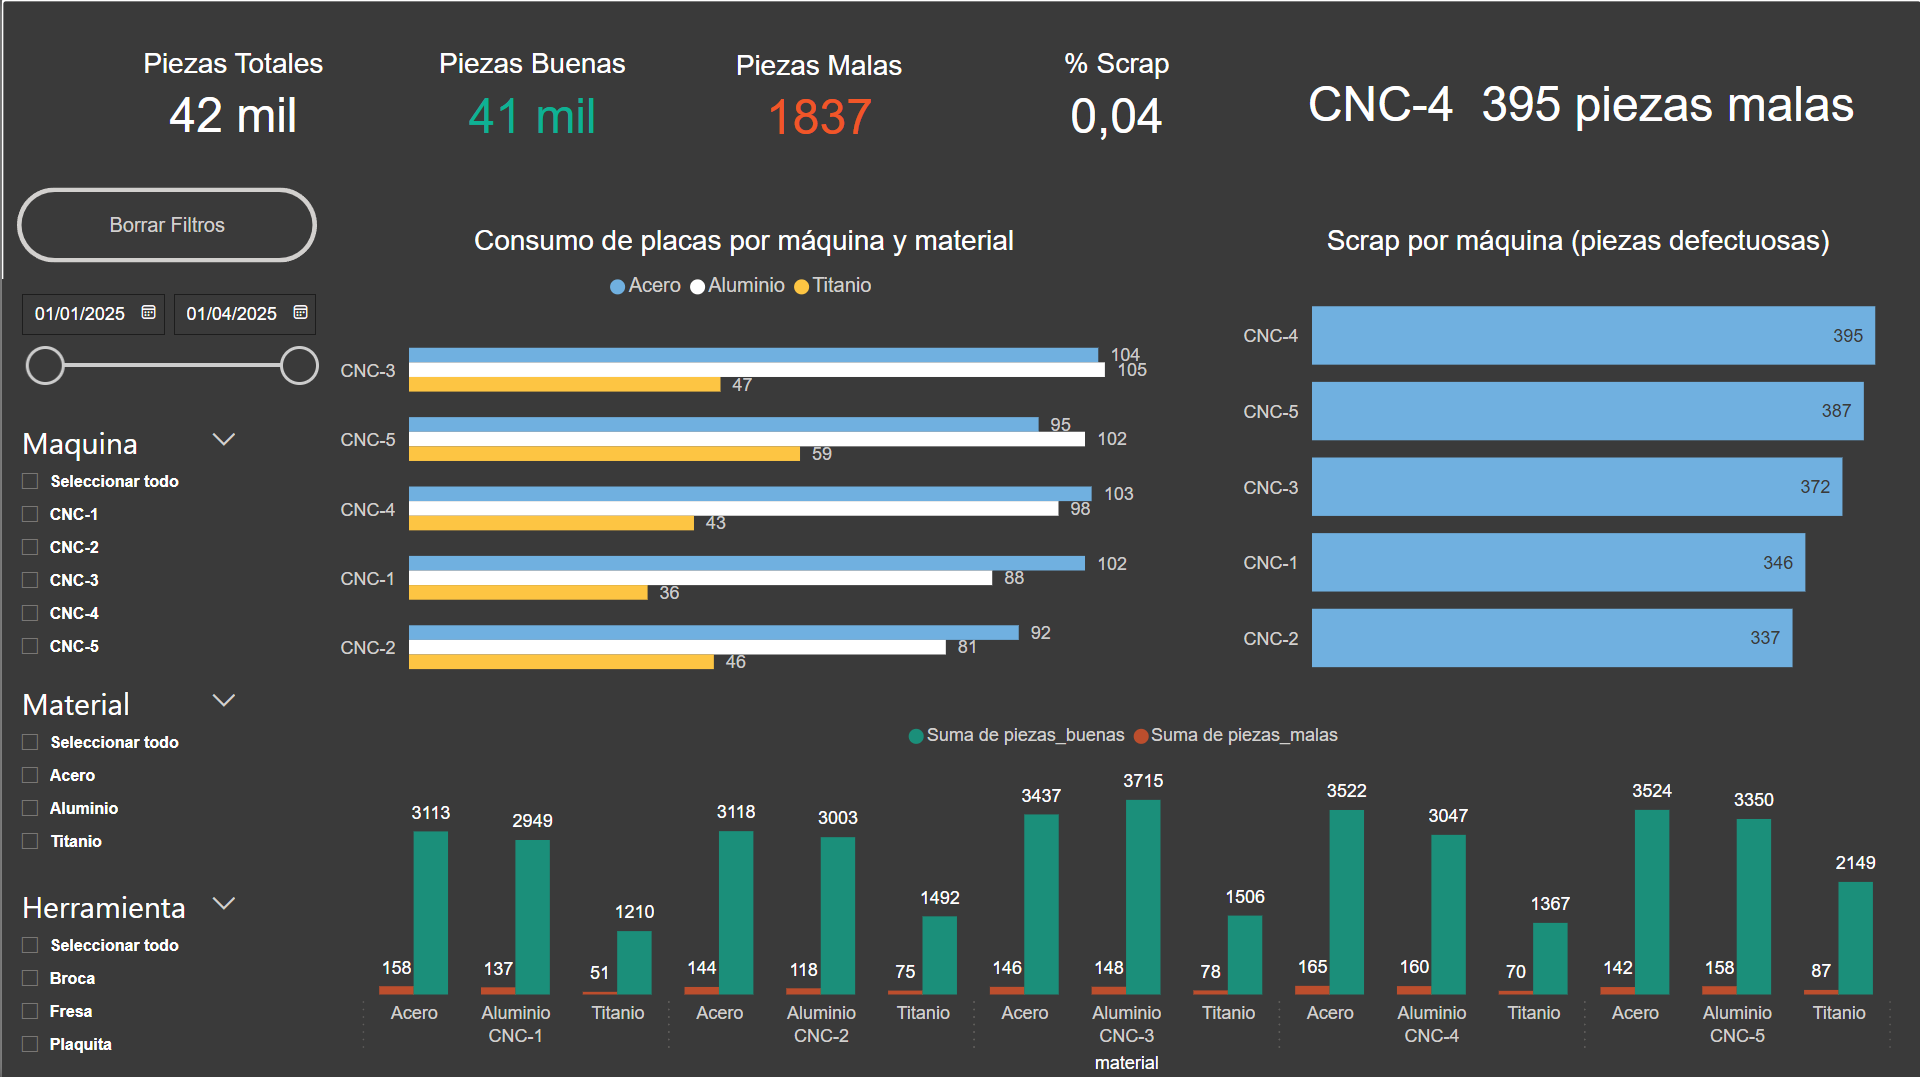

The dashboard page shown, as its layout file describes it:
{"tool":"powerbi","page":{"name":"Página 1","canvas":[1280,720],"ordinal":0},"visuals":[{"type":"clusteredColumnChart","fields":{"Category":["dim_maquinas.nombre_maquina","dim_piezas.material"],"Y":["Sum(fact_produccion.piezas_buenas)","Sum(fact_produccion.piezas_malas)"]},"box":[219,471,1061,249],"z":0},{"type":"slicer","title":"Tipo de herramienta","fields":{"Values":["dim_herramientas.tipo_herramienta"]},"box":[10,471,168,64],"z":1000},{"type":"slicer","title":"Nombre de maquina","fields":{"Values":["dim_maquinas.nombre_maquina"]},"box":[10,276,168,78],"z":2000},{"type":"slicer","fields":{"Values":["dim_piezas.material"]},"box":[10,370,168,72],"z":3000},{"type":"actionButton","box":[10,125,200,50],"z":4000},{"type":"card","title":"Piezas Totales","fields":{"Values":["fact_produccion.Piezas Totales"]},"box":[56.7,31.5,194.5,67.7],"z":5000},{"type":"card","title":"Piezas Buenas","fields":{"Values":["Sum(fact_produccion.piezas_buenas)"]},"box":[251,32,205,67.7],"z":6000},{"type":"card","title":"Piezas Malas","fields":{"Values":["Sum(fact_produccion.piezas_malas)"]},"box":[455.9,32.6,177.4,67],"z":7000},{"type":"card","title":"% Scrap","fields":{"Values":["fact_produccion.Scrap %"]},"box":[633.3,32,220.1,67.7],"z":8000},{"type":"barChart","title":"Scrap por máquina (piezas defectuosas)","fields":{"Category":["dim_maquinas.nombre_maquina"],"Y":["fact_produccion.Scrap por pieza"]},"box":[821,150,459,321],"z":9000},{"type":"clusteredBarChart","title":"Consumo de placas por máquina y material","fields":{"Y":["Sum(fact_produccion.placas_usadas)"],"Category":["dim_maquinas.nombre_maquina"],"Series":["dim_piezas.material"]},"box":[219,150,551,321],"z":10000},{"type":"card","title":"Maquina con mas Scrap","fields":{"Values":["fact_produccion.Máquina con más scrap"]},"box":[853,33,399,70],"z":11000},{"type":"slicer","fields":{"Values":["fact_produccion.fecha"]},"box":[0,186,219,90],"z":12000}]}

Visuals, with their boxes in screenshot pixels (x1, y1, x2, y2), scaled from the page's 1280x720 canvas onto the 1920x1077 screenshot:
clusteredColumnChart - dim_maquinas.nombre_maquina x dim_piezas.material: [left=328, top=705, right=1919, bottom=1076]
"Tipo de herramienta" slicer: [left=15, top=705, right=267, bottom=800]
"Nombre de maquina" slicer: [left=15, top=413, right=267, bottom=530]
slicer - dim_piezas.material: [left=15, top=553, right=267, bottom=661]
actionButton: [left=15, top=187, right=315, bottom=262]
"Piezas Totales" card: [left=85, top=47, right=377, bottom=148]
"Piezas Buenas" card: [left=376, top=48, right=684, bottom=149]
"Piezas Malas" card: [left=684, top=49, right=950, bottom=149]
"% Scrap" card: [left=950, top=48, right=1280, bottom=149]
"Scrap por máquina (piezas defectuosas)" barChart: [left=1232, top=224, right=1919, bottom=705]
"Consumo de placas por máquina y material" clusteredBarChart: [left=328, top=224, right=1155, bottom=705]
"Maquina con mas Scrap" card: [left=1280, top=49, right=1878, bottom=154]
slicer - fact_produccion.fecha: [left=0, top=278, right=328, bottom=413]
